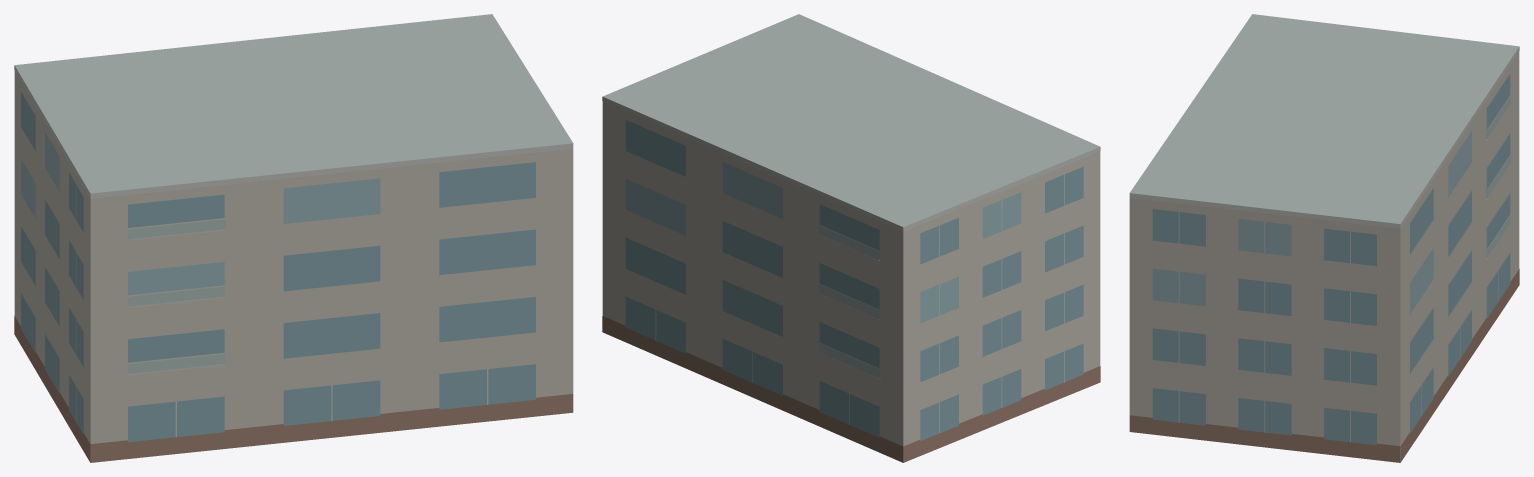
Rendered from survey-upis-32829489.glb.
3 renders of one model, left to right at view 1: azimuth 30°, elevation 25°; view 2: azimuth 150°, elevation 25°; view 3: azimuth 270°, elevation 25°, orthographic. The views are drawn at different scales.
Parts seen in each view (by area): view 1: survey-upis-32829489.tmp; view 2: survey-upis-32829489.tmp; view 3: survey-upis-32829489.tmp.
Boxes of the visible parts, box(x1,y1,x2,y2) form: survey-upis-32829489.tmp: box(14, 14, 573, 462); survey-upis-32829489.tmp: box(602, 14, 1100, 462); survey-upis-32829489.tmp: box(1129, 14, 1519, 462).
Size of the model in its own units: 23.97 by 12.7 by 18.8.
